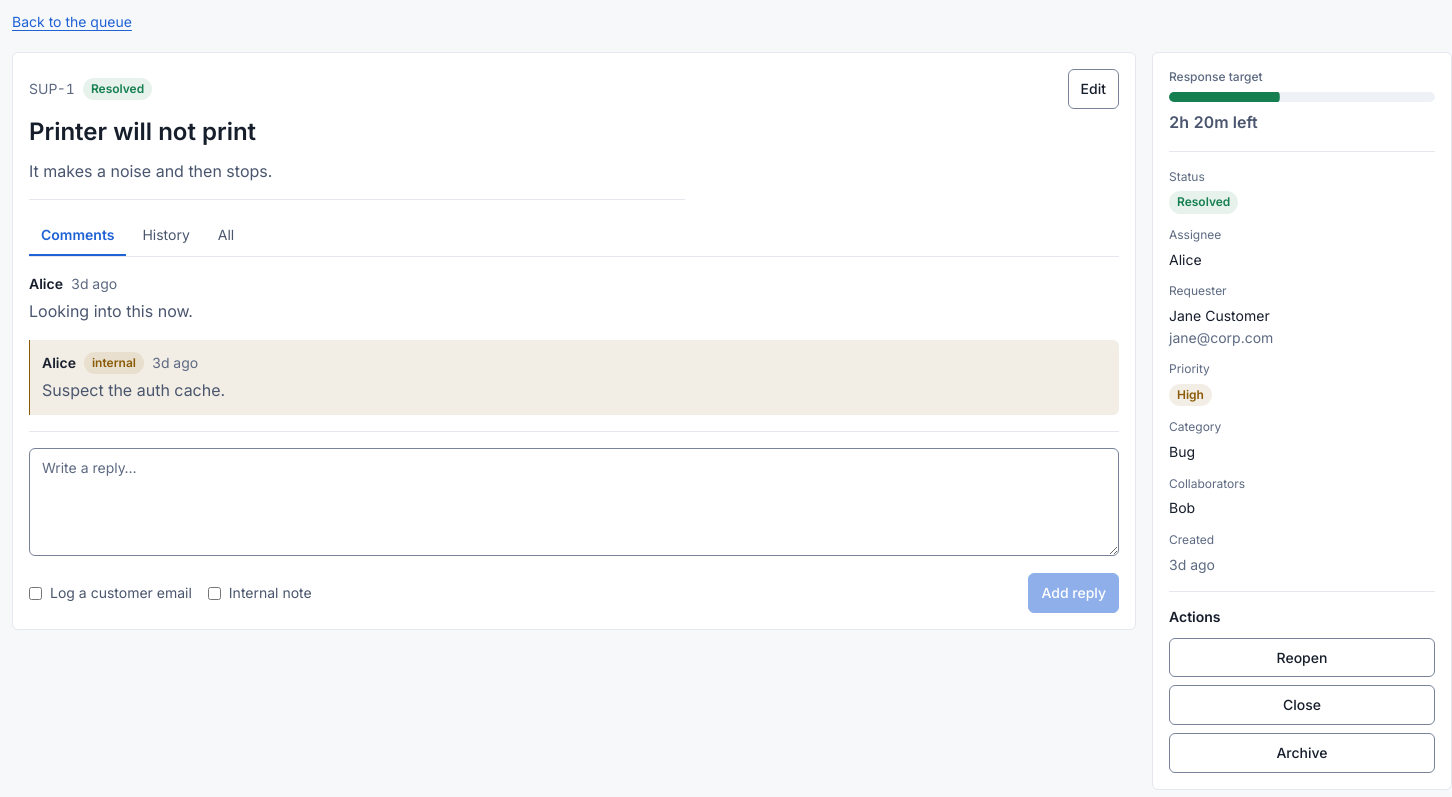
Test case: TicketDetailPage › surfaces the server's reason when an action is refused
Step 1. Click the button "Close" → (1302, 705), box [1169,686,1435,725]
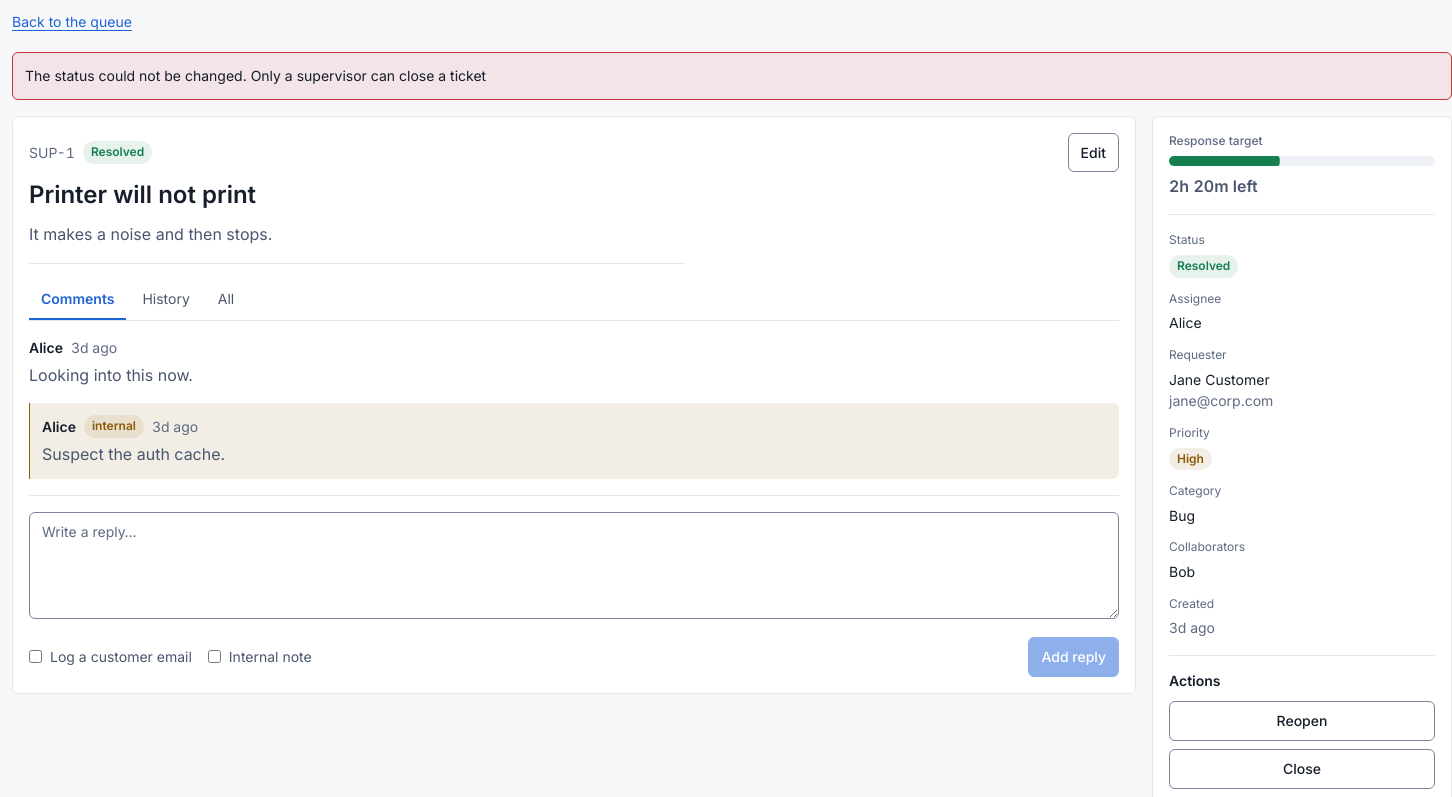
Expected: the text "The status could not be changed. Only a supervisor can close a ticket" is shown, [12,52,1451,100]
